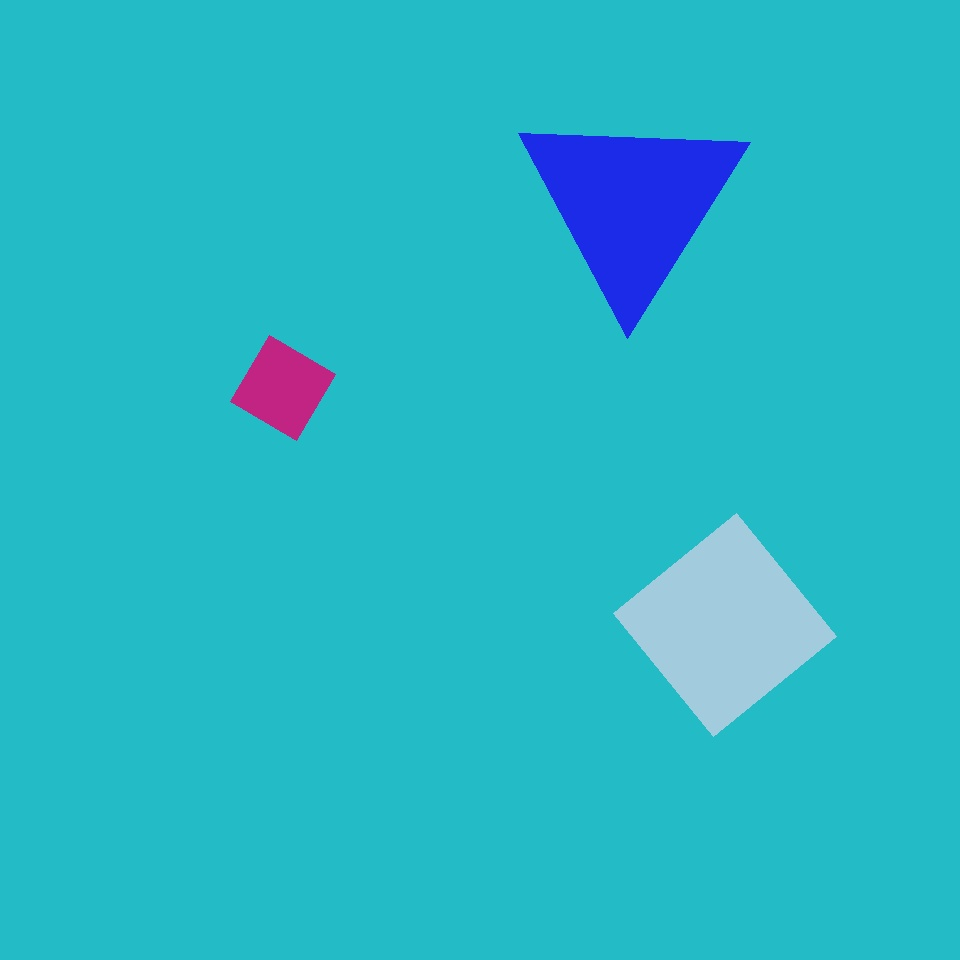circle: (516, 102, 748, 308), (209, 699, 294, 791)
square: (381, 375, 679, 673), (614, 514, 836, 736), (439, 604, 656, 821), (260, 128, 389, 256), (230, 336, 336, 440)
triangle: (105, 277, 460, 633), (366, 498, 683, 815)
